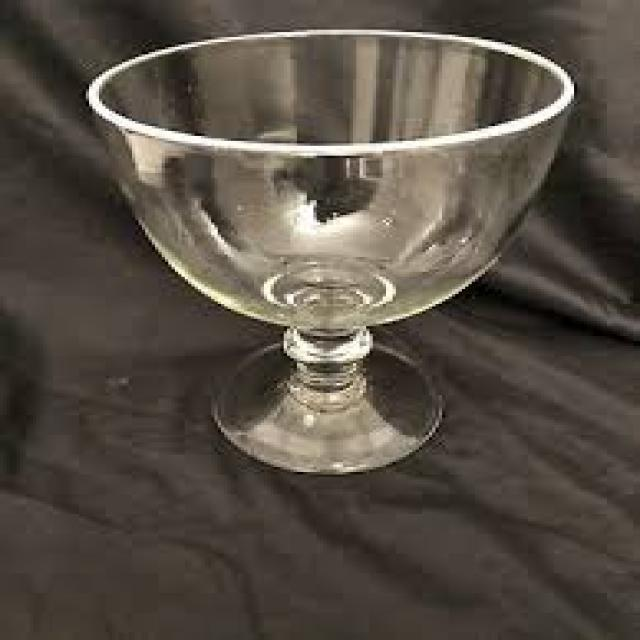Glass: (90, 28, 574, 480)
